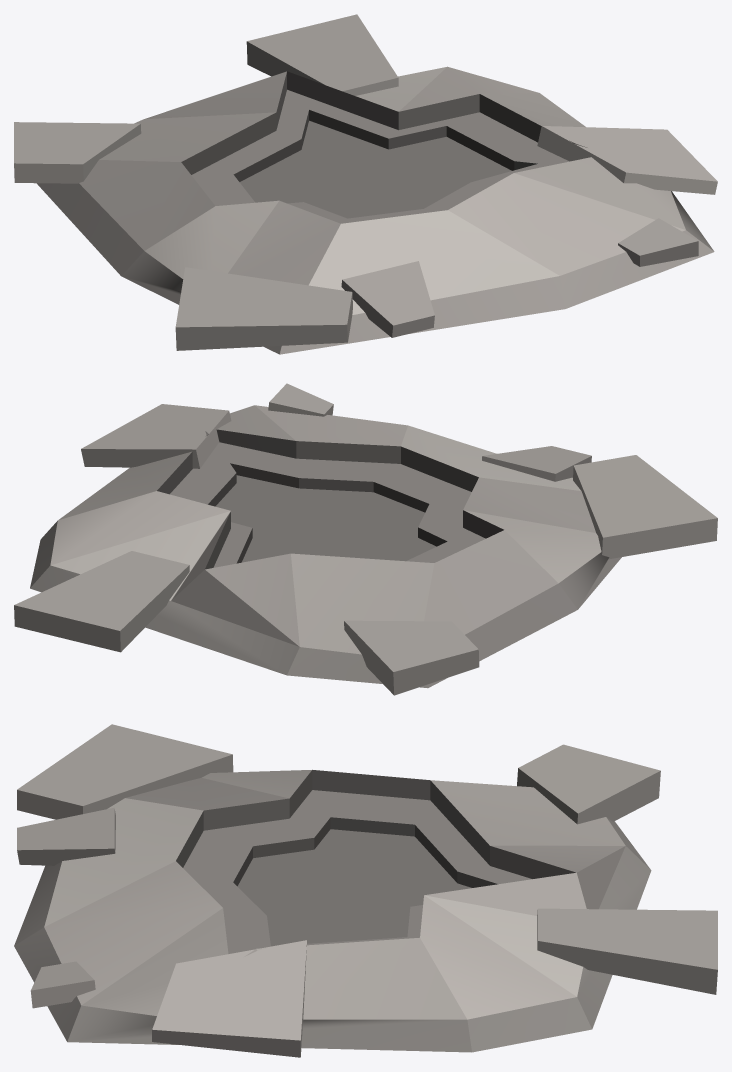
Rendered from SA_Env_DamagedConcrete.gltf.
3 views of the same model, one above another, from view 1: azimuth 30°, elevation 25°; view 2: azimuth 150°, elevation 25°; view 3: azimuth 270°, elevation 25° (orthographic). The views are drawn at different scales.
Parts seen in each view (by area): view 1: SA_Env_DamagedConcrete; view 2: SA_Env_DamagedConcrete; view 3: SA_Env_DamagedConcrete.
Boxes of the visible parts, x1,y1,x2,y2 form: SA_Env_DamagedConcrete: [14, 14, 717, 354]; SA_Env_DamagedConcrete: [14, 383, 717, 695]; SA_Env_DamagedConcrete: [14, 724, 717, 1057].
Size of the model in its own units: 6.62 by 0.6758 by 6.36.
1 material, 1 textured.
